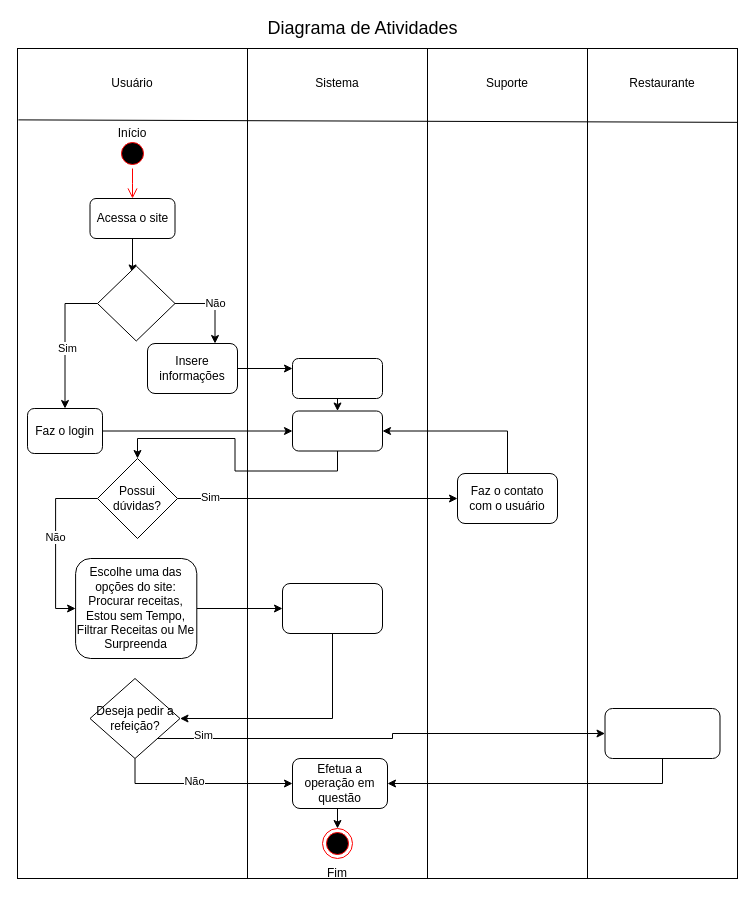
This 756x905 diagram has some shape labels left out. The shapes that lost their labels are listed below. From the top down, each one's centre as x and y in pixels, then its label:
At pixel 135 303: "Possui cadastro?".
At pixel 337 378: "Realiza o cadastro".
At pixel 337 430: "Redireciona para o menu".
At pixel 332 608: "Redireciona para a página em questão".
At pixel 662 733: "Recebe o pedido".
